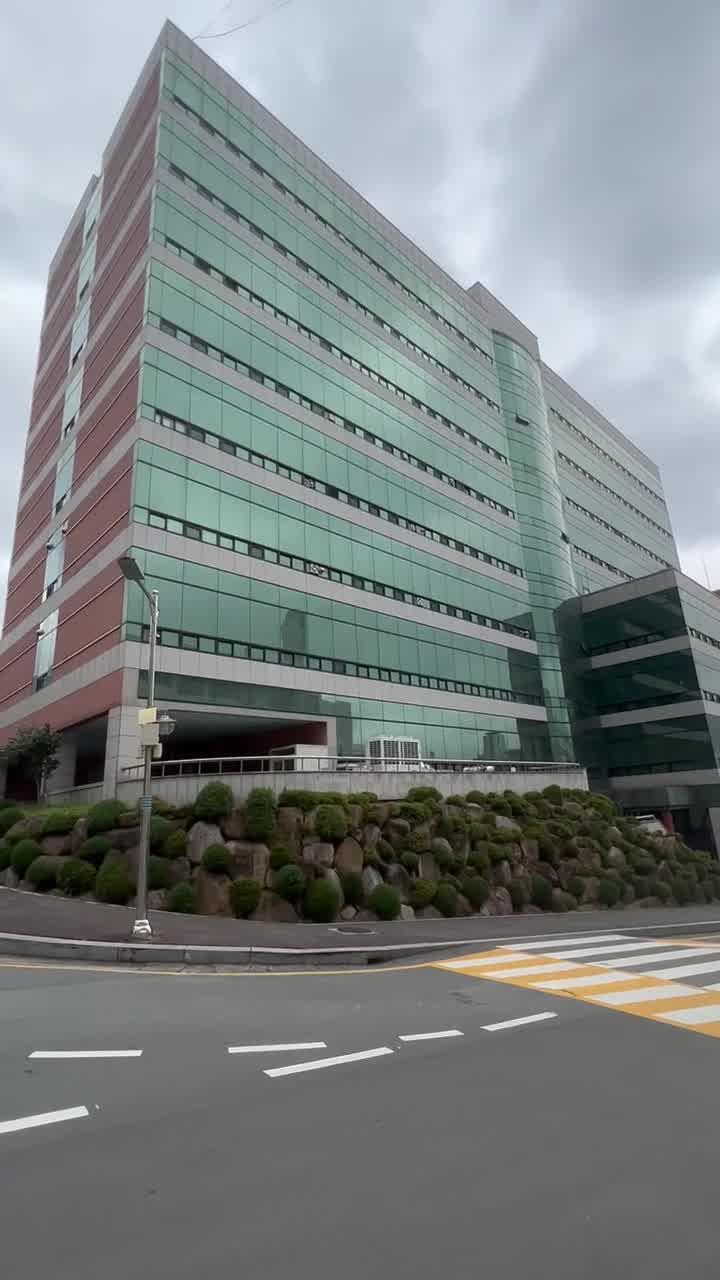building: (22, 90, 592, 782)
